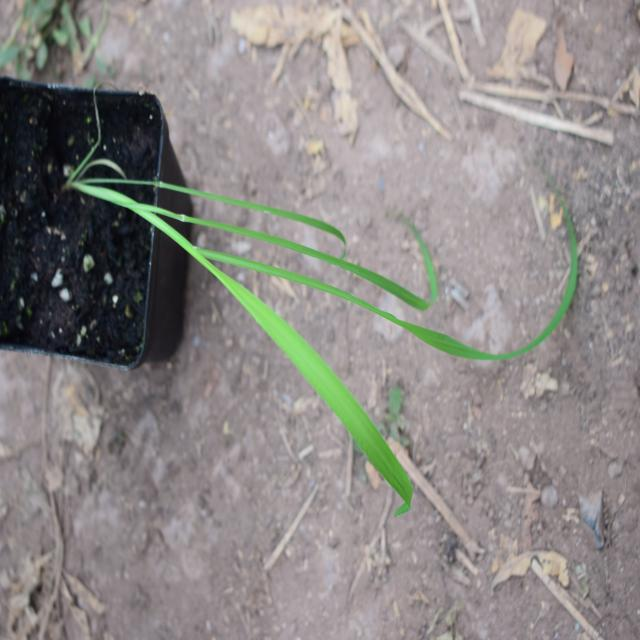barnyard_grass: (41, 118, 595, 481)
